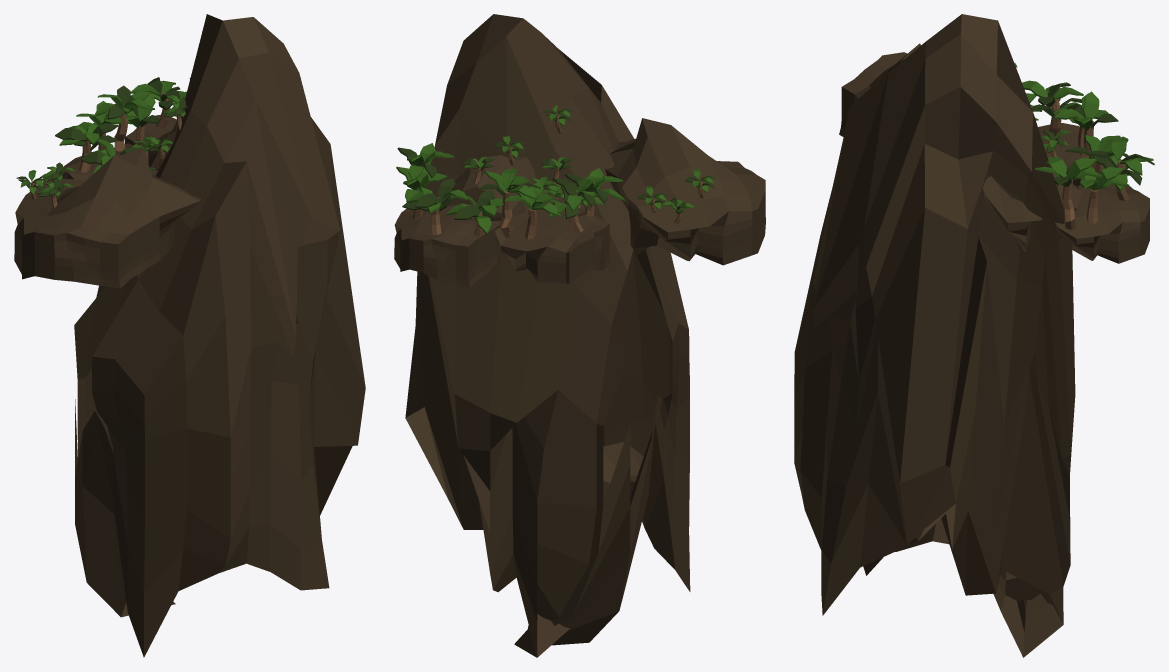
File: Island4.fbx
The picture shows the model from 3 angles, left to right: view 1: azimuth 30°, elevation 25°; view 2: azimuth 150°, elevation 25°; view 3: azimuth 270°, elevation 25°; orthographic projection. The views are drawn at different scales.
Visible parts, largest first — view 1: Cylinder.011; view 2: Cylinder.011; view 3: Cylinder.011.
Part boxes in pixels (x1,y1,x2,y2): Cylinder.011: (14,14,365,657); Cylinder.011: (394,14,765,657); Cylinder.011: (794,14,1154,657).
Size of the model in its own units: 9223 by 15549 by 7762.
